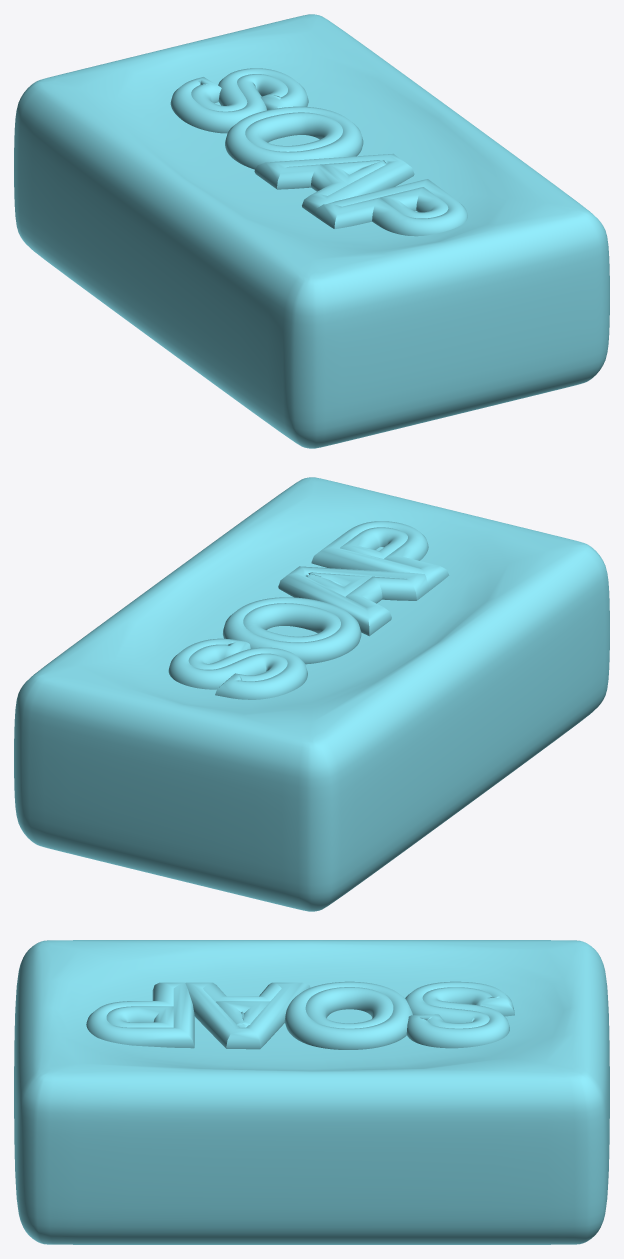
Rendered from Soap_Textured.fbx.
The picture shows the model from 3 angles, top to bottom: view 1: azimuth 30°, elevation 25°; view 2: azimuth 150°, elevation 25°; view 3: azimuth 270°, elevation 25°; orthographic projection.
Parts seen in each view (by area): view 1: ChamferBox001, Text001; view 2: ChamferBox001, Text001; view 3: ChamferBox001, Text001.
Boxes of the visible parts, bbox=[...] form: ChamferBox001: bbox=[14, 14, 609, 448]; Text001: bbox=[170, 68, 467, 236]; ChamferBox001: bbox=[14, 477, 609, 911]; Text001: bbox=[168, 521, 449, 699]; ChamferBox001: bbox=[14, 940, 609, 1244]; Text001: bbox=[86, 981, 514, 1049].
Size of the model in its own units: 0.8783 by 0.447 by 1.39.
